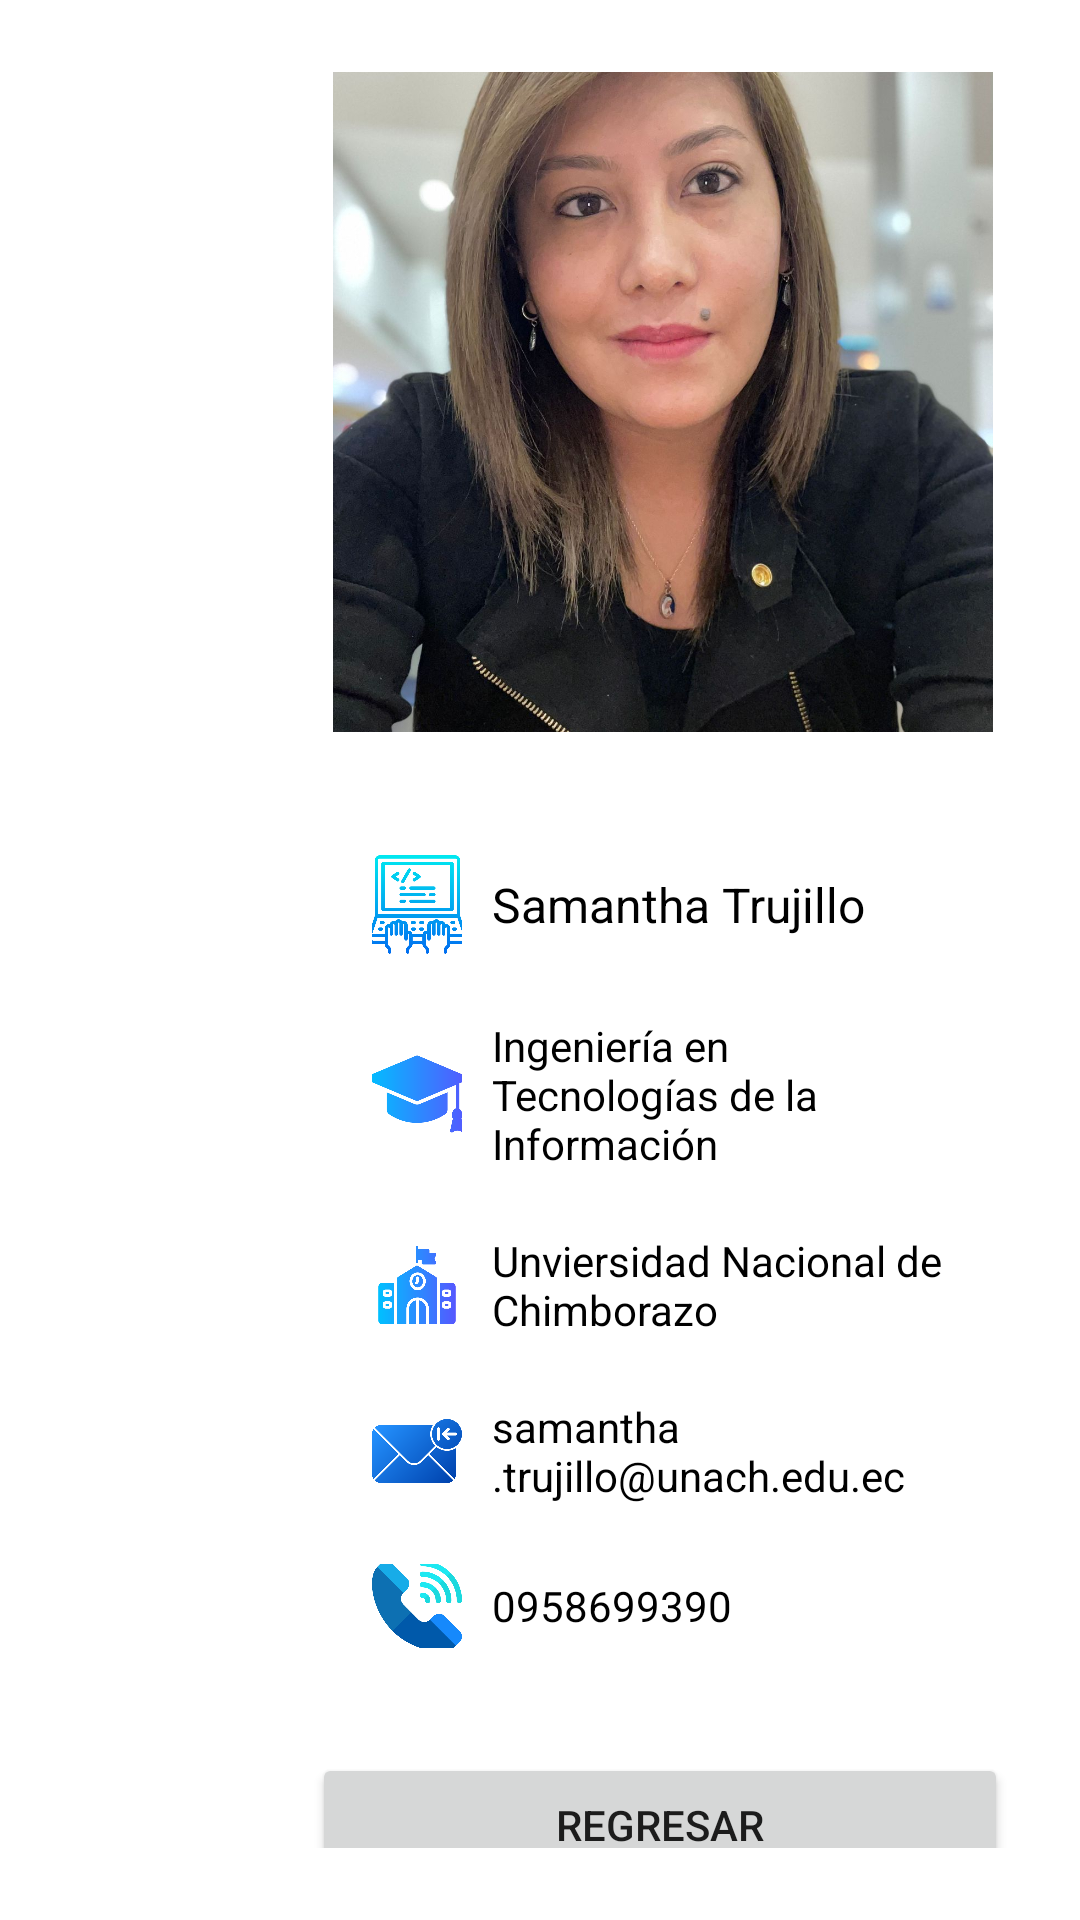

Screen size 1080 x 1920. Icon name, then its box in pixels as (x1, y1, x2, y2):
carrera: (372, 1055, 462, 1133)
desarrollador: (372, 855, 462, 954)
mail: (372, 1419, 462, 1483)
telefono: (372, 1564, 462, 1648)
universidad: (378, 1246, 456, 1324)
